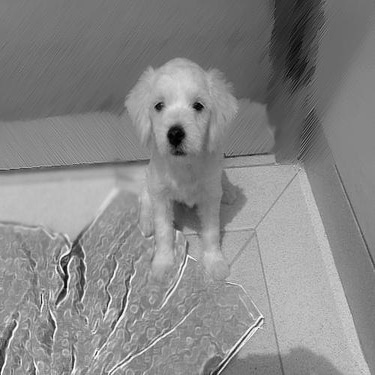dog: (107, 50, 254, 294)
